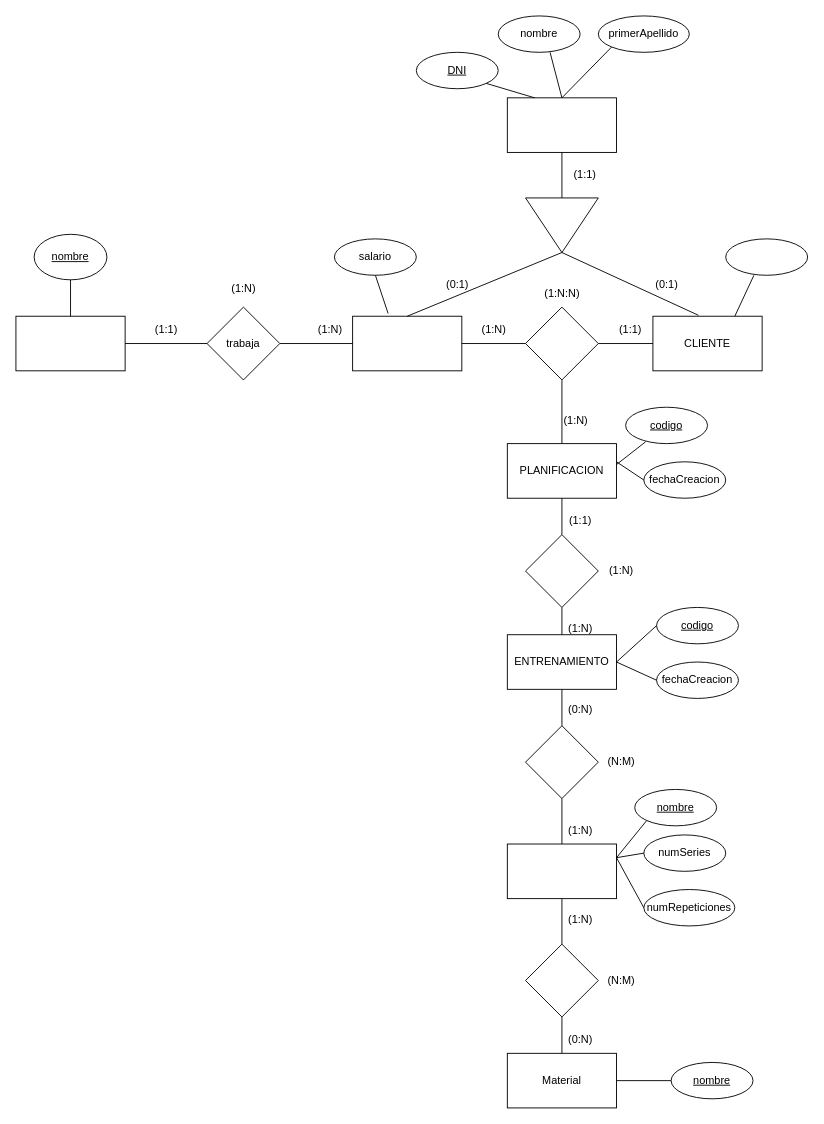
This 824x1124 diagram has some shape labels left out. Each missing label, with the centre of its shape:
"EJERCICIO" belongs at point (561, 871).
"entrena/crea" belongs at point (561, 343).
"ENTRENADOR" belongs at point (407, 343).
"fechaAlta" belongs at point (766, 256).
"formada" belongs at point (561, 570).
"formado" belongs at point (561, 762).
"GIMNASIO" belongs at point (70, 343).
"PERSONA" belongs at point (561, 124).
"utilizar" belongs at point (561, 980).
